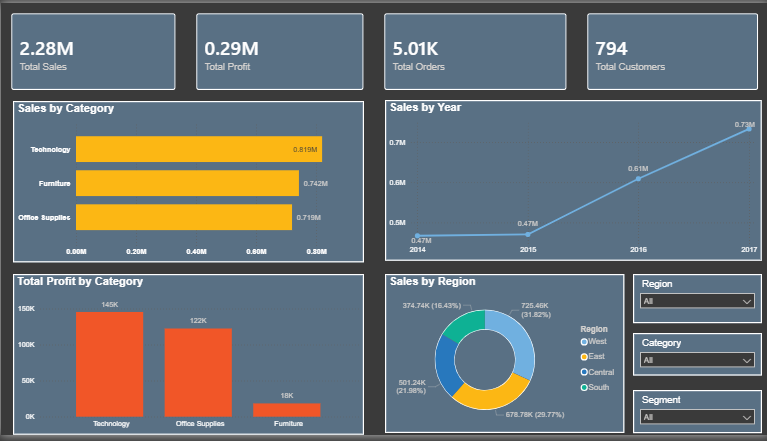

What the dashboard file says about the page in this screenshot:
{"tool":"powerbi","page":{"name":"Executive Overview","canvas":[1280,720],"ordinal":0},"visuals":[{"type":"cardVisual","fields":{"Data":["Sum(Sample - Superstore.Sales)"]},"box":[0,0,308.2,162.7],"z":0},{"type":"cardVisual","fields":{"Data":["Sample - Superstore.Total Orders"]},"box":[622.1,0,338.4,162.7],"z":1000},{"type":"cardVisual","fields":{"Data":["Sample - Superstore.Total Customers"]},"box":[960.5,0,319.7,162.7],"z":2000},{"type":"cardVisual","fields":{"Data":["Sum(Sample - Superstore.Profit)"]},"box":[308.2,0,313.9,162.7],"z":3000},{"type":"clusteredBarChart","title":"Sales by Category","fields":{"Y":["Sample - Superstore.Total Sales"],"Category":["Sample - Superstore.Category"]},"box":[20.2,162.7,584.6,269.3],"z":4000},{"type":"clusteredColumnChart","fields":{"Category":["Sample - Superstore.Category"],"Y":["Sample - Superstore.Total Profit"]},"box":[20.2,452.2,584.6,267.8],"z":5000},{"type":"donutChart","title":"Sales by Region","fields":{"Category":["Sample - Superstore.Region"],"Y":["Sample - Superstore.Total Sales"]},"box":[639.4,452.2,398.9,265],"z":6000},{"type":"lineChart","title":"Sales by Year","fields":{"Category":["Sample - Superstore.Order Date.Variation.Date Hierarchy.Year","Sample - Superstore.Order Date.Variation.Date Hierarchy.Month"],"Y":["Sample - Superstore.Total Sales"]},"box":[639.4,161.3,627.8,267.8],"z":7000},{"type":"slicer","fields":{"Values":["Sample - Superstore.Region"]},"box":[1052.6,452.2,214.6,82.1],"z":8000},{"type":"slicer","fields":{"Values":["Sample - Superstore.Category"]},"box":[1052.6,550.1,214.6,70.6],"z":9000},{"type":"slicer","fields":{"Values":["Sample - Superstore.Segment"]},"box":[1052.6,645.1,214.6,72],"z":10000}]}

Visuals, with their boxes in screenshot pixels (x1, y1, x2, y2), scaled from the page's 1280x720 canvas onto the 767x441 screenshot:
cardVisual - Sum(Sample - Superstore.Sales): (x1=0, y1=0, x2=185, y2=100)
cardVisual - Sample - Superstore.Total Orders: (x1=373, y1=0, x2=576, y2=100)
cardVisual - Sample - Superstore.Total Customers: (x1=576, y1=0, x2=766, y2=100)
cardVisual - Sum(Sample - Superstore.Profit): (x1=185, y1=0, x2=373, y2=100)
"Sales by Category" clusteredBarChart: (x1=12, y1=100, x2=362, y2=265)
clusteredColumnChart - Sample - Superstore.Category x Sample - Superstore.Total Profit: (x1=12, y1=277, x2=362, y2=440)
"Sales by Region" donutChart: (x1=383, y1=277, x2=622, y2=439)
"Sales by Year" lineChart: (x1=383, y1=99, x2=759, y2=263)
slicer - Sample - Superstore.Region: (x1=631, y1=277, x2=759, y2=327)
slicer - Sample - Superstore.Category: (x1=631, y1=337, x2=759, y2=380)
slicer - Sample - Superstore.Segment: (x1=631, y1=395, x2=759, y2=439)
